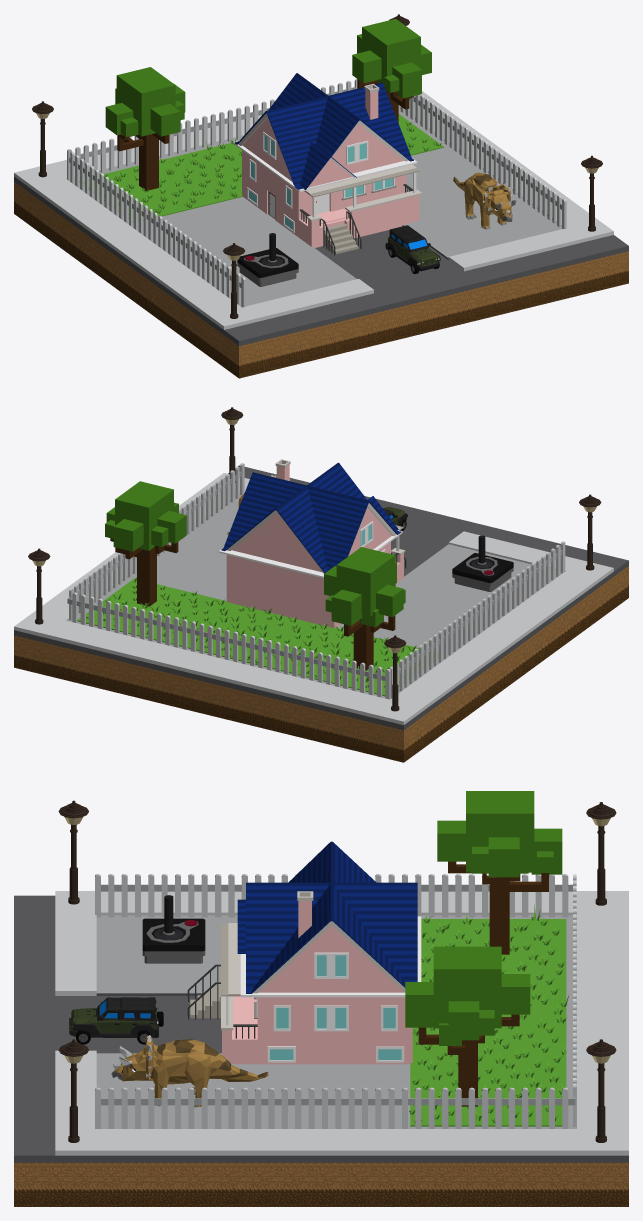
3 renders of one model, top to bottom at view 1: azimuth 30°, elevation 25°; view 2: azimuth 150°, elevation 25°; view 3: azimuth 270°, elevation 25°, orthographic. The views are drawn at different scales.
Visible parts, largest first — view 1: Cube.004, Cube.313, ANIMAL_Triceratops, OBJRANDOM_JOYSTICK, VEHICLES_JEEP; view 2: Cube.004, Cube.313, OBJRANDOM_JOYSTICK; view 3: Cube.004, Cube.313, ANIMAL_Triceratops, VEHICLES_JEEP, OBJRANDOM_JOYSTICK.
Boxes of the visible parts, x1=… form: Cube.004: x1=14, y1=14, x2=628, y2=378; Cube.313: x1=233, y1=73, x2=422, y2=255; ANIMAL_Triceratops: x1=453, y1=172, x2=516, y2=229; OBJRANDOM_JOYSTICK: x1=237, y1=233, x2=298, y2=286; VEHICLES_JEEP: x1=385, y1=225, x2=440, y2=274; Cube.004: x1=14, y1=407, x2=628, y2=762; Cube.313: x1=218, y1=459, x2=406, y2=627; OBJRANDOM_JOYSTICK: x1=452, y1=535, x2=513, y2=591; Cube.004: x1=14, y1=791, x2=628, y2=1206; Cube.313: x1=187, y1=841, x2=421, y2=1064; ANIMAL_Triceratops: x1=111, y1=1035, x2=268, y2=1107; VEHICLES_JEEP: x1=69, y1=997, x2=163, y2=1044; OBJRANDOM_JOYSTICK: x1=142, y1=895, x2=205, y2=963.
Size of the model in its own units: 4000 by 1624 by 4000.
Materials: 40 (4 with a texture image).
